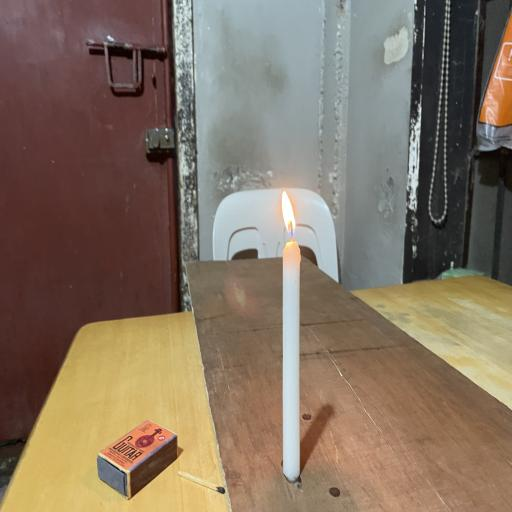fire: (272, 183, 302, 240)
